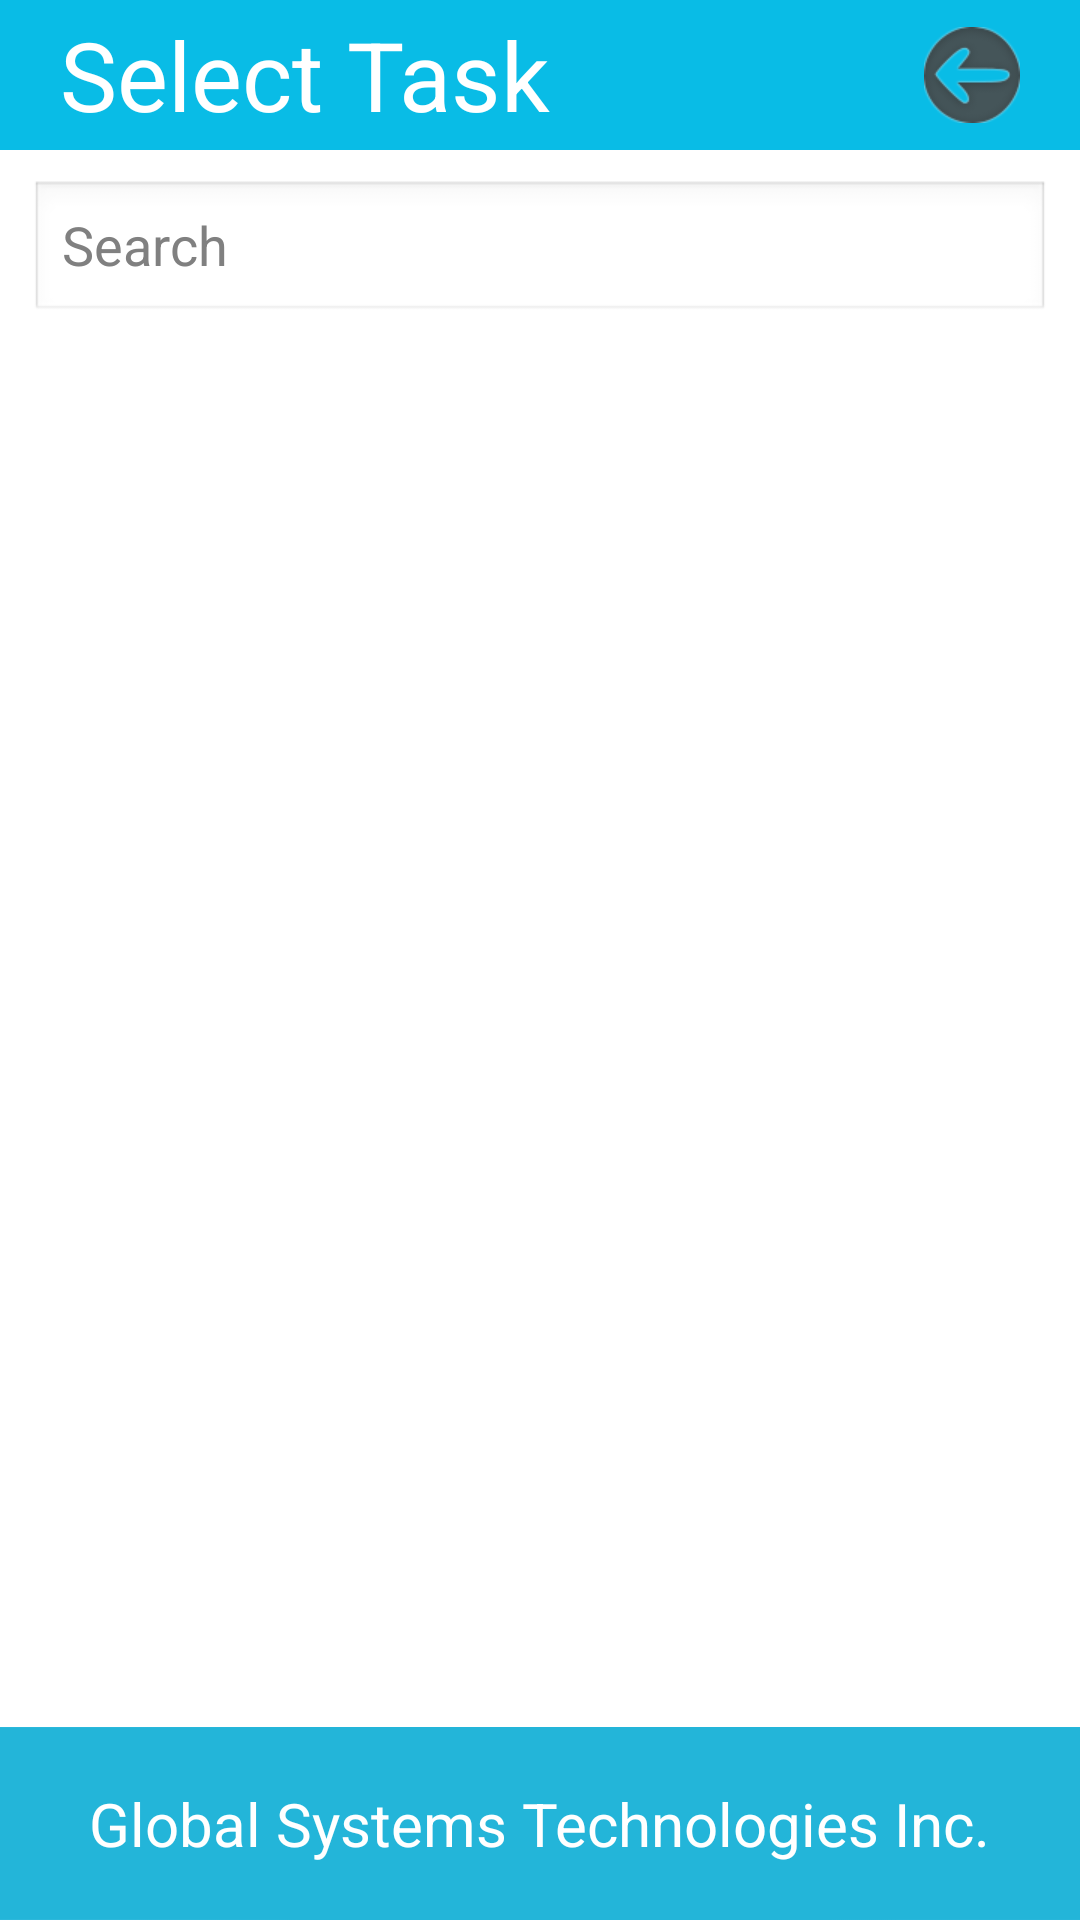

Point at icon controls on the screen. Image size 1080 x 1920, points as point (x, y).
left arrow: point (972, 75)
